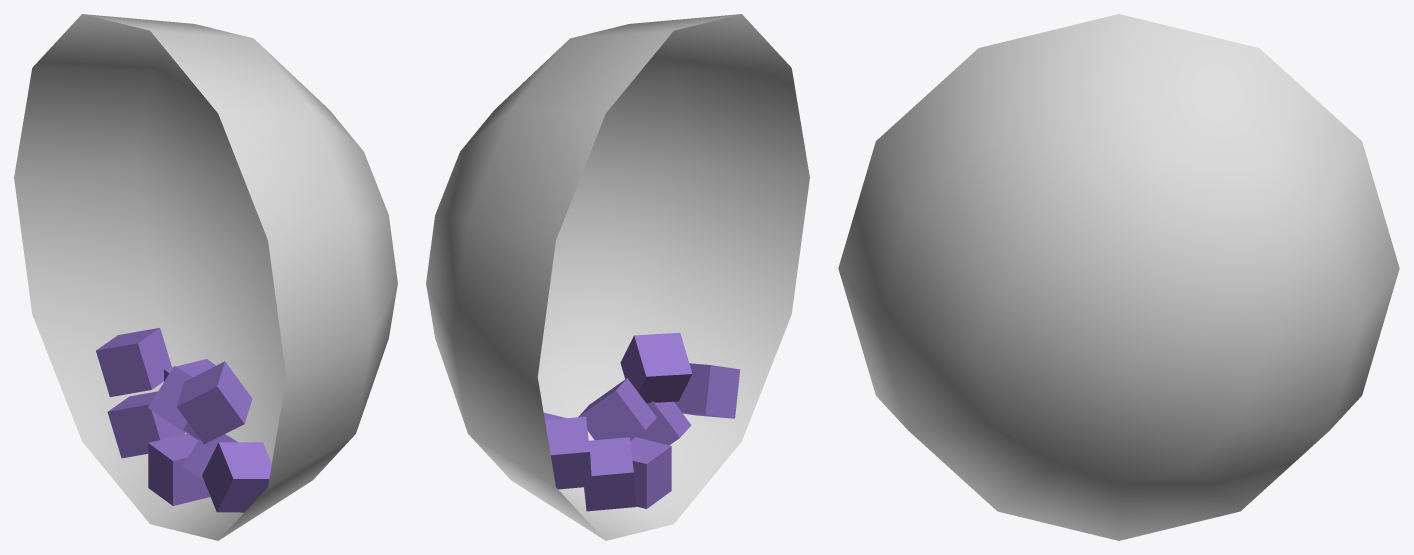
Rendered from M_DogzhuangshiqianR01_01.FBX.
3 renders of one model, left to right at view 1: azimuth 30°, elevation 25°; view 2: azimuth 150°, elevation 25°; view 3: azimuth 270°, elevation 25°, orthographic. The views are drawn at different scales.
Parts seen in each view (by area): view 1: Sphere001, Box011; view 2: Sphere001, Box011; view 3: Sphere001.
Boxes of the visible parts, <box> form: Sphere001: <box>14,14,397,540</box>; Box011: <box>96,328,271,512</box>; Sphere001: <box>426,14,809,540</box>; Box011: <box>543,332,740,511</box>; Sphere001: <box>838,14,1399,540</box>.
Bounding box in the file's own units: 0.646 × 1.46 × 1.46.
